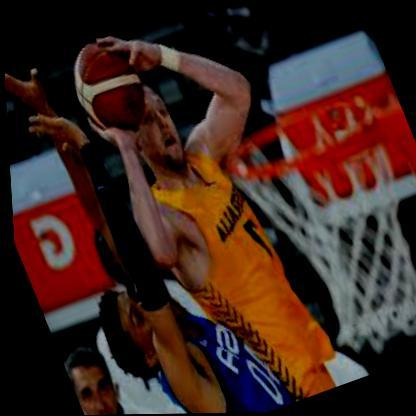basketball: (57, 30, 157, 142)
rim: (210, 78, 398, 200)
